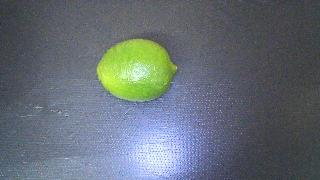EXPORTACION: (97, 39, 177, 102)
